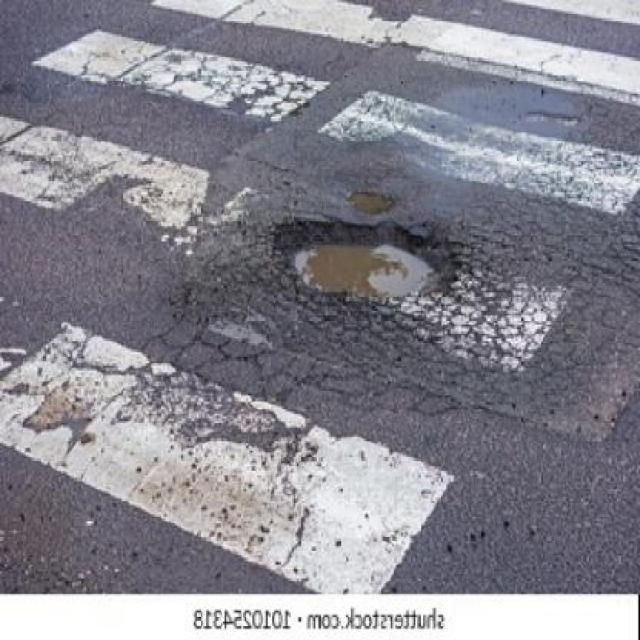Pothole: (260, 210, 468, 304)
